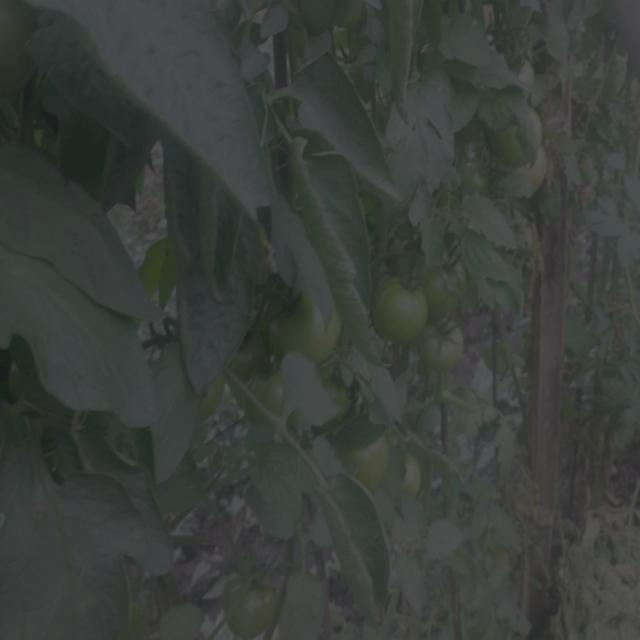tomato: (216, 563, 290, 640), (262, 295, 335, 359), (373, 272, 431, 344), (423, 314, 476, 377), (339, 446, 388, 500), (247, 359, 283, 426), (487, 131, 526, 161)
